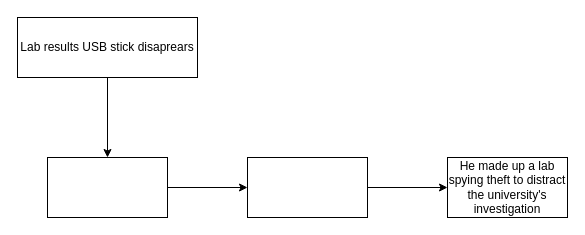
Some shapes in this 585 by 235 pixel diagram are drawn without their labels. The box of each missing label's shape, as (x1, y1, x2, y2) in pixels:
He was afraid that his position can be compromised by this event: (246, 156, 368, 218)
The results were messed up by one of the PHD students: (46, 156, 168, 218)
